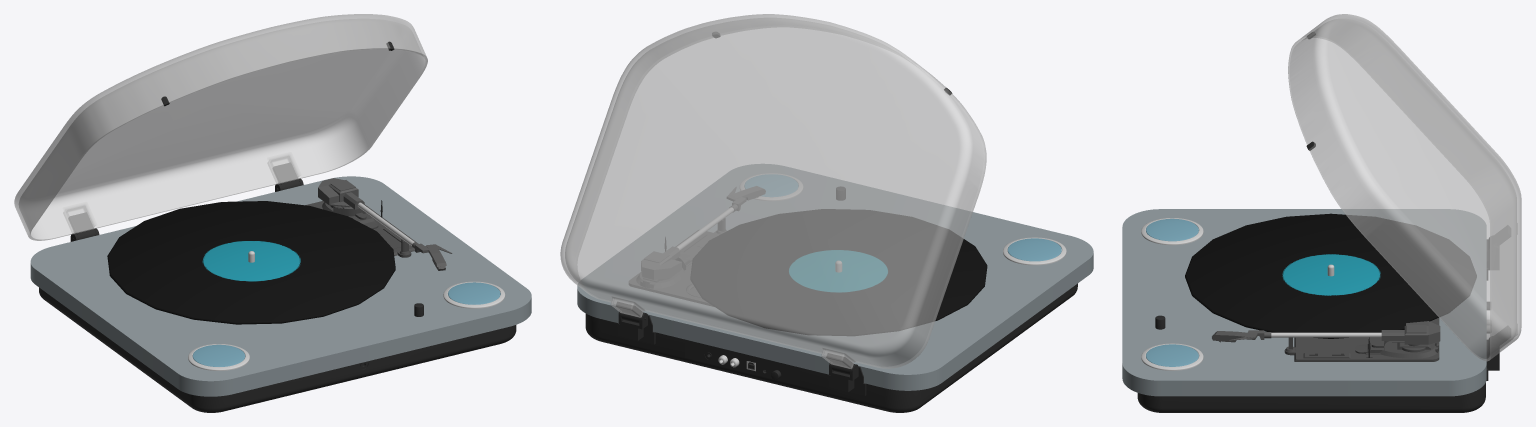
The model's file is RecordPlayer.fbx.
The picture shows the model from 3 angles, left to right: view 1: azimuth 30°, elevation 25°; view 2: azimuth 150°, elevation 25°; view 3: azimuth 270°, elevation 25°; orthographic projection. The views are drawn at different scales.
Visible parts, largest first — view 1: Lid, Player, Record, Arm, Roatationbase; view 2: Lid, Player, Record, Roatationbase, Arm; view 3: Lid, Player, Record, Roatationbase, Arm.
Boxes of the visible parts, x1,y1,x2,y2 form: Lid: [14, 14, 427, 240]; Player: [30, 176, 531, 412]; Record: [107, 201, 395, 324]; Arm: [318, 178, 452, 270]; Roatationbase: [305, 201, 418, 257]; Lid: [560, 14, 986, 374]; Player: [577, 164, 1093, 412]; Record: [690, 209, 987, 335]; Roatationbase: [629, 218, 726, 306]; Arm: [641, 186, 765, 279]; Lid: [1288, 14, 1521, 361]; Player: [1122, 209, 1499, 412]; Record: [1185, 213, 1476, 338]; Roatationbase: [1284, 318, 1439, 361]; Arm: [1212, 321, 1440, 344].
Size of the model in its own units: 41.7 by 32.65 by 40.97.
